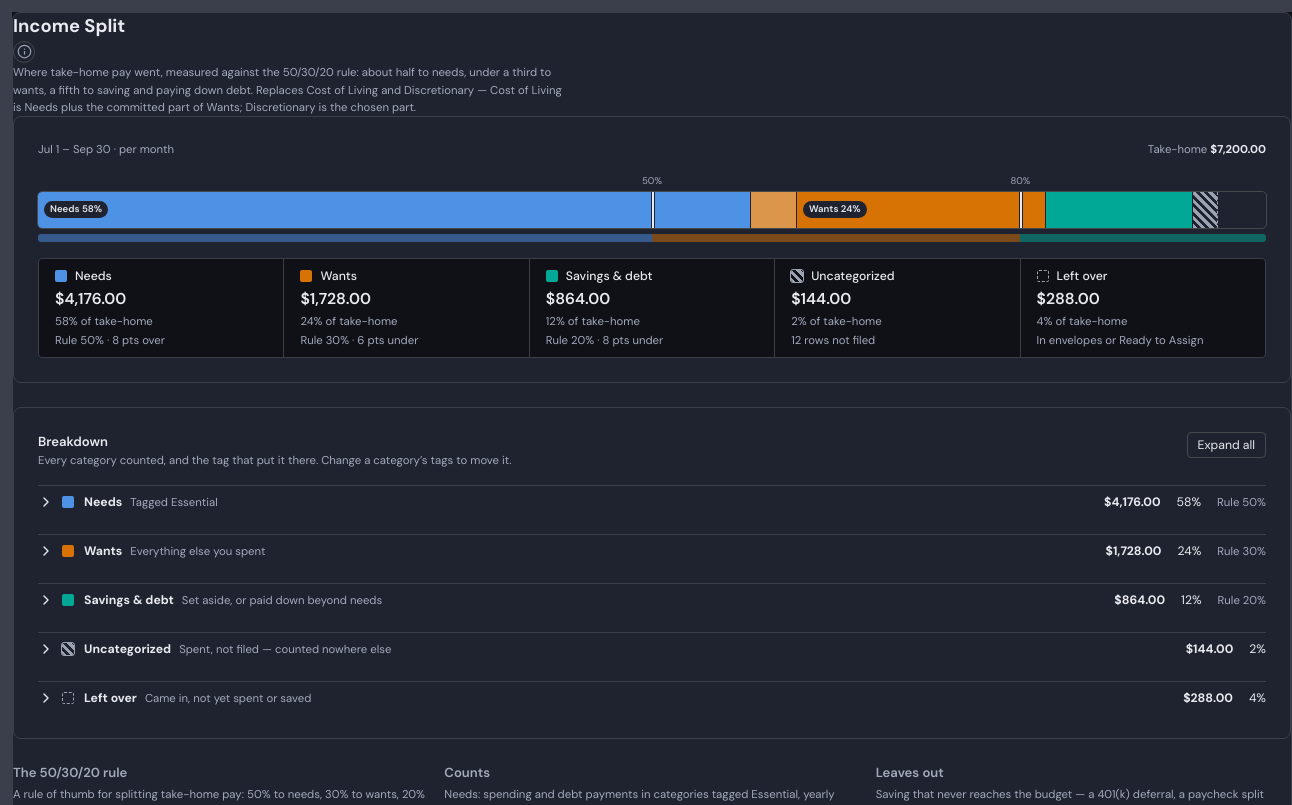
Test case: IncomeSplitReport › offers the rule's own debt reading under Needs
Click the button "Needs Tagged Essential $4,176.00 58% Rule 50%" at {"x": 103, "y": 502}, box top-left (38, 486), bottom-right (1266, 518)
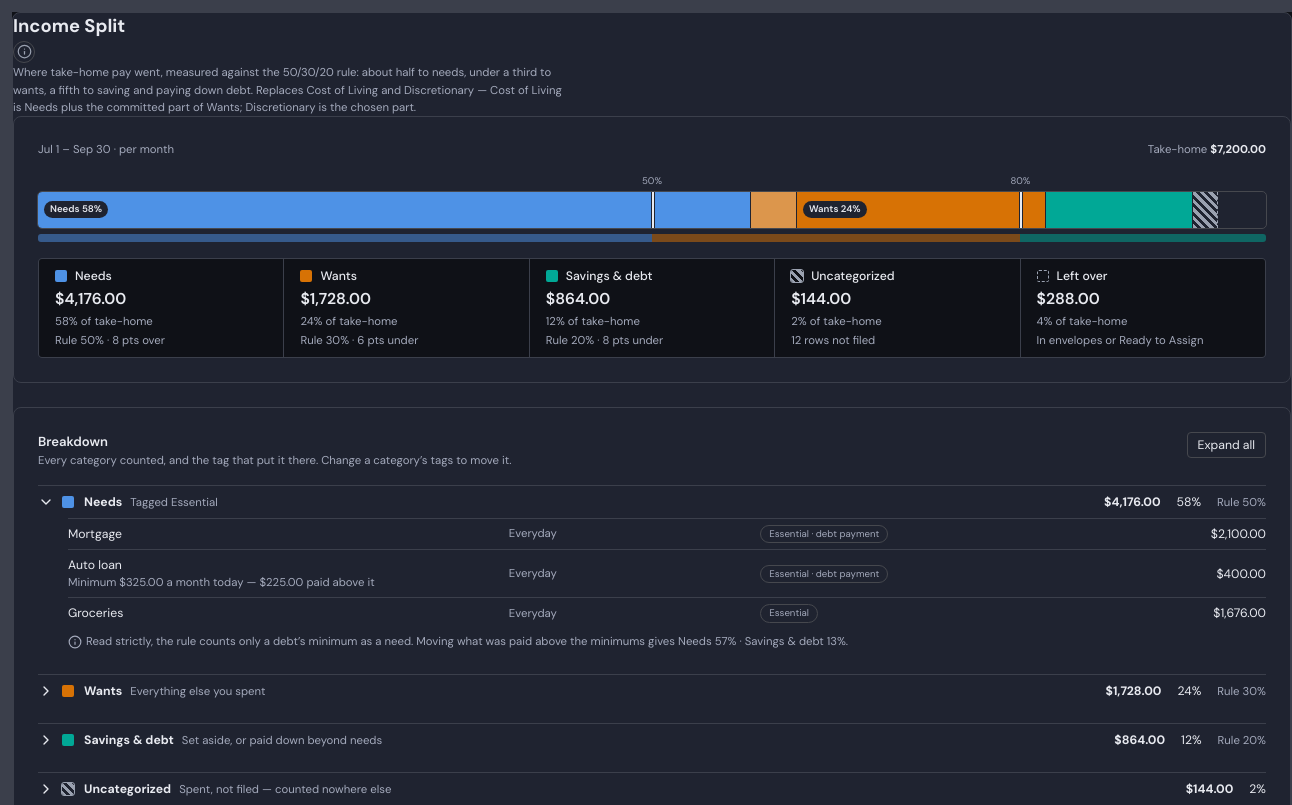
Expected: the text "Needs 57% · Savings & debt 13%" is shown, top-left (86, 633), bottom-right (848, 650)
